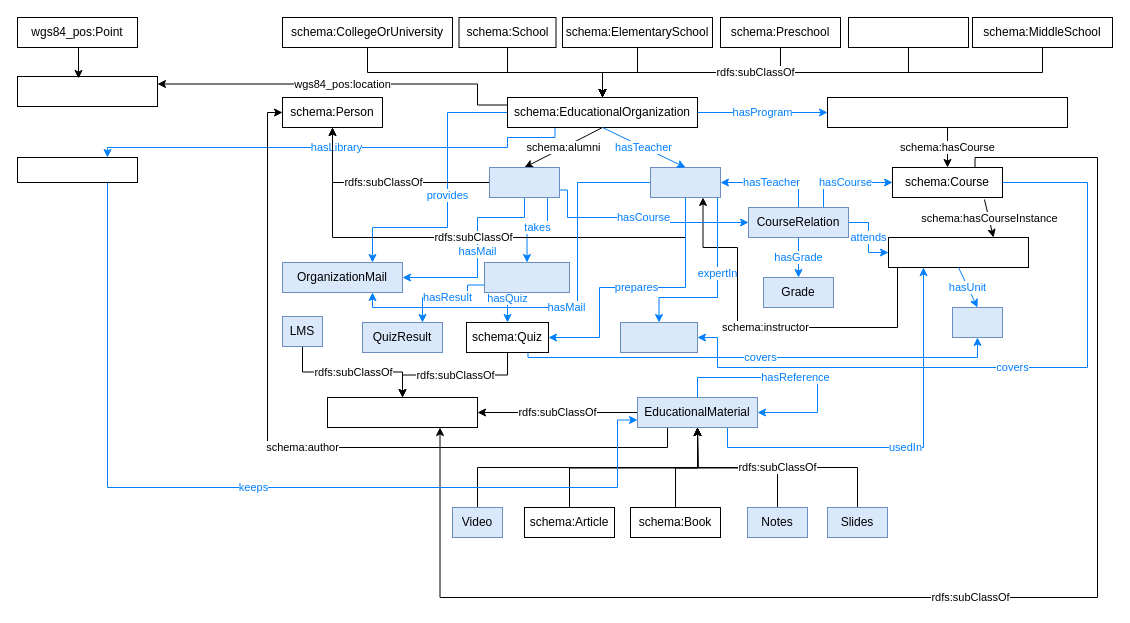
Image size: 1130x623. Some labels were removed from this diagram. Each missing label, with the centre of its shape:
QuizRelation: point (527, 277)
schema:CourseInstance: point (958, 252)
schema:EducationalOccupationalProgram: point (947, 112)
schema:HighSchool: point (908, 32)
schema:LearningResource: point (402, 412)
schema:Library: point (77, 169)
Student: point (524, 182)
Subject: point (659, 337)
Teacher: point (685, 182)
Unit: point (977, 322)
wgs84_pos:SpatialThing: point (87, 91)
